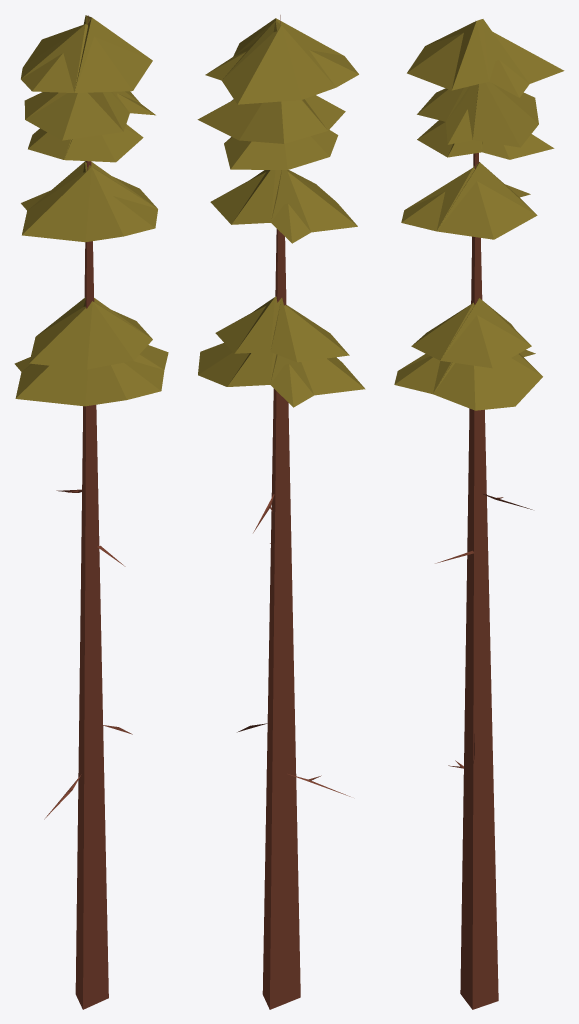
Rendered from pine_healthy_type_8_LOD3.fbx.
3 views of the same model, side by side, from view 1: azimuth 30°, elevation 25°; view 2: azimuth 150°, elevation 25°; view 3: azimuth 270°, elevation 25° (orthographic).
Visible parts, largest first — view 1: pine_trunk.016; view 2: pine_trunk.016; view 3: pine_trunk.016.
Boxes of the visible parts, x1,y1,x2,y2 form: pine_trunk.016: [14, 15, 168, 1009]; pine_trunk.016: [197, 15, 365, 1009]; pine_trunk.016: [394, 19, 564, 1009].
Size of the model in its own units: 484 by 2872 by 449.
